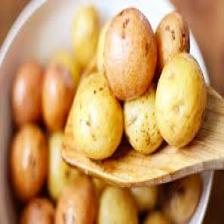Defected potato: (102, 7, 158, 102)
Potato: (154, 53, 210, 150), (70, 69, 126, 158)
